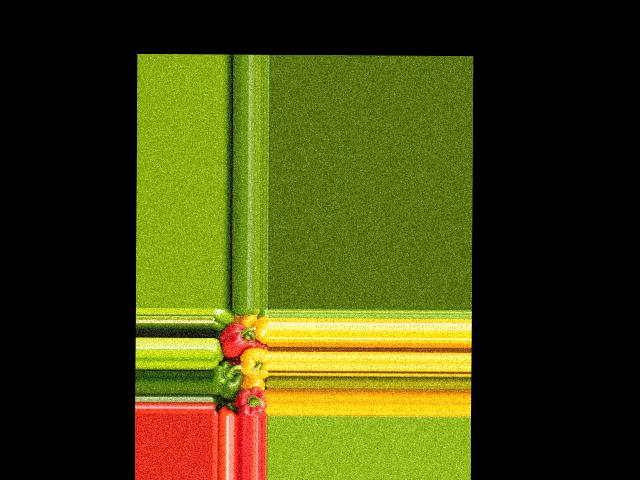bell_pepper: (233, 382, 267, 415)
